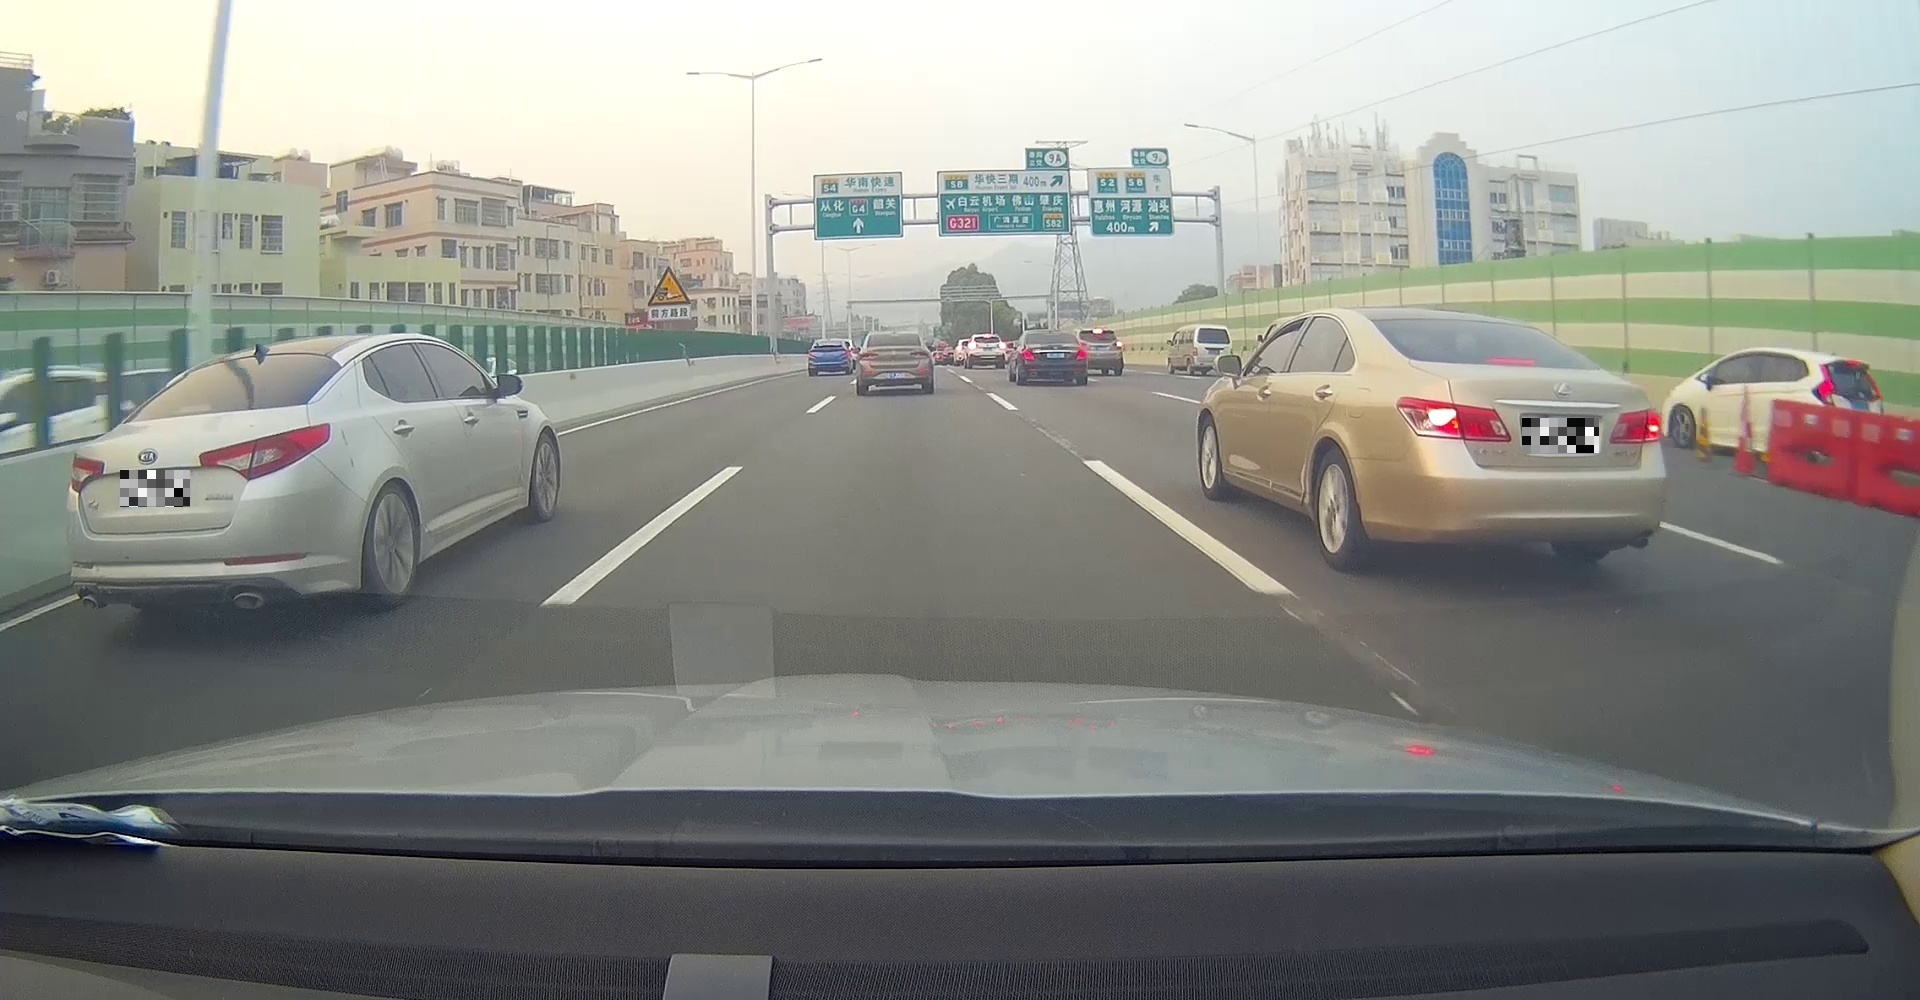L_light: (1396, 395, 1512, 442), (71, 451, 105, 492), (1813, 364, 1836, 404), (1020, 349, 1035, 360), (858, 352, 877, 360)
R_light: (199, 423, 331, 480), (1608, 407, 1661, 444), (1865, 376, 1882, 404), (910, 350, 931, 359), (1074, 349, 1087, 360)
T_light: (171, 404, 211, 416), (1490, 357, 1538, 367), (1844, 359, 1860, 369), (889, 332, 902, 338), (1046, 332, 1058, 336)
day-left: (1357, 308, 1669, 563)
day-no: (66, 338, 356, 621), (1806, 352, 1884, 459), (1018, 329, 1088, 385)
night-no: (856, 330, 935, 395)
plate_1: (119, 470, 190, 508)
plate_2: (1523, 418, 1599, 453)
